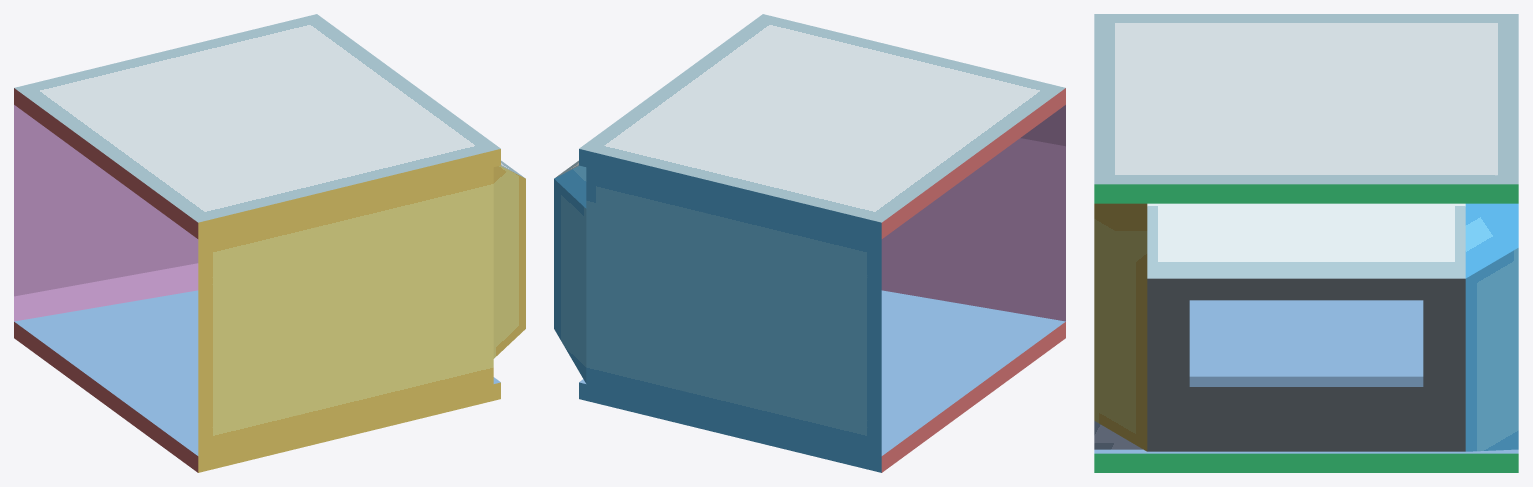
Rendered from JST_Prototype ShipBackground.gltf.
3 renders of one model, left to right at view 1: azimuth 30°, elevation 25°; view 2: azimuth 150°, elevation 25°; view 3: azimuth 270°, elevation 25°, orthographic. The views are drawn at different scales.
Visible parts, largest first — view 1: cuboid, cube (×2); view 2: cuboid, cube (×2); view 3: cube (×2), cuboid.
Boxes of the visible parts, left/top/right/bottom form: cuboid: left=14, top=105, right=525, bottom=455; cube (×2): left=14, top=14, right=500, bottom=472; cuboid: left=554, top=105, right=1065, bottom=455; cube (×2): left=579, top=14, right=1065, bottom=472; cube (×2): left=1094, top=14, right=1518, bottom=472; cuboid: left=1094, top=203, right=1518, bottom=451.
Size of the model in its own units: 1.38 by 0.9375 by 1.25.
Materials: 1 (1 with a texture image).
